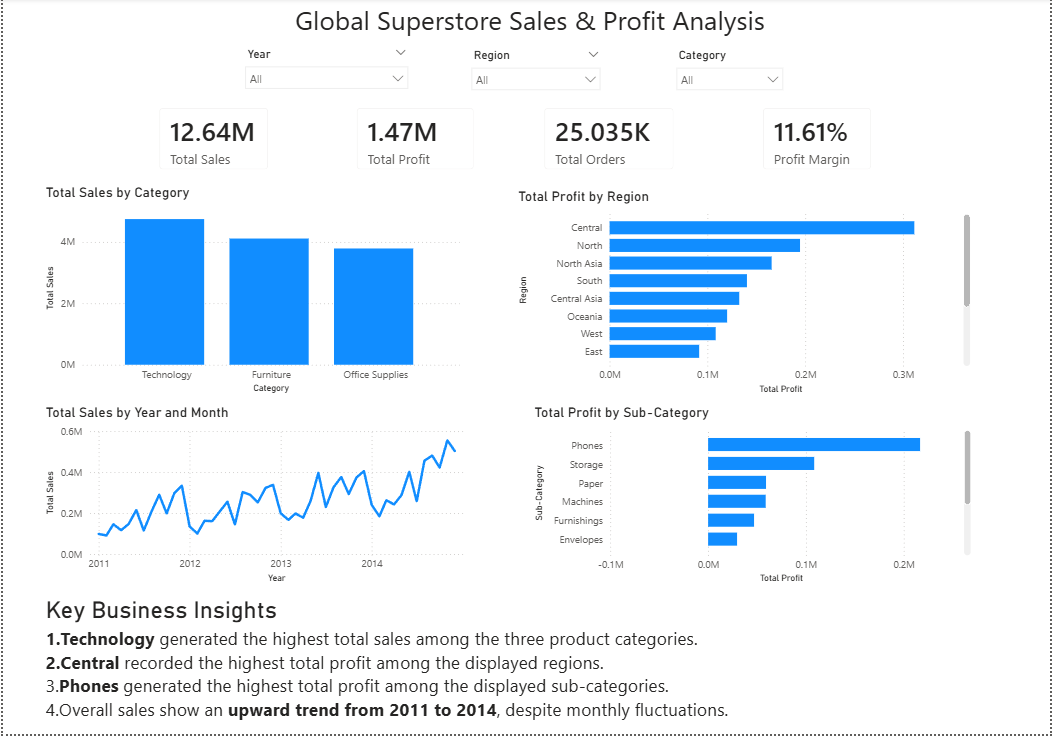

What the dashboard file says about the page in this screenshot:
{"tool":"powerbi","page":{"name":"Page 1","canvas":[1280,900],"ordinal":0},"visuals":[{"type":"textbox","box":[9.6,0,1270.7,56.3],"z":0},{"type":"cardVisual","fields":{"Data":["Global_Superstore2.Total Sales"]},"box":[174.3,118,167.4,109.8],"z":1000},{"type":"cardVisual","fields":{"Data":["Global_Superstore2.Total Profit"]},"box":[415.8,118,177,109.8],"z":2000},{"type":"cardVisual","fields":{"Data":["Global_Superstore2.Total Orders"]},"box":[644.9,118,192.1,109.8],"z":3000},{"type":"cardVisual","fields":{"Data":["Global_Superstore2.Profit Margin"]},"box":[912.5,118,166,109.8],"z":4000},{"type":"clusteredColumnChart","fields":{"Category":["Global_Superstore2.Category"],"Y":["Global_Superstore2.Total Sales"]},"box":[46.7,227.8,516,260.7],"z":5000},{"type":"barChart","fields":{"Y":["Global_Superstore2.Total Profit"],"Category":["Global_Superstore2.Region"]},"box":[625.7,231.9,562.6,256.6],"z":6000},{"type":"lineChart","fields":{"Y":["Global_Superstore2.Total Sales"],"Category":["Global_Superstore2.Order Date.Variation.Date Hierarchy.Year","Global_Superstore2.Order Date.Variation.Date Hierarchy.Month"]},"box":[46.7,496.7,523.3,223.3],"z":7000},{"type":"barChart","fields":{"Y":["Global_Superstore2.Total Profit"],"Category":["Global_Superstore2.Sub-Category"]},"box":[644.9,496.7,543.4,223.7],"z":8000},{"type":"slicer","fields":{"Values":["Global_Superstore2.Order Date.Variation.Date Hierarchy.Year"]},"box":[285.4,54.9,219.6,63.1],"z":10000},{"type":"slicer","fields":{"Values":["Global_Superstore2.Region"]},"box":[562.6,56.3,178.4,61.7],"z":11000},{"type":"slicer","fields":{"Values":["Global_Superstore2.Category"]},"box":[813.7,56.3,150.9,61.7],"z":12000},{"type":"textbox","title":"Key Business Insights","box":[47.4,730.6,1232,169.7],"z":12001}]}

Visuals, with their boxes in screenshot pixels (x1, y1, x2, y2), scaled from the page's 1280x900 canvas onto the 1052x736 screenshot:
textbox: box=[8, 0, 1051, 46]
cardVisual - Global_Superstore2.Total Sales: box=[143, 96, 281, 186]
cardVisual - Global_Superstore2.Total Profit: box=[342, 96, 487, 186]
cardVisual - Global_Superstore2.Total Orders: box=[530, 96, 688, 186]
cardVisual - Global_Superstore2.Profit Margin: box=[750, 96, 886, 186]
clusteredColumnChart - Global_Superstore2.Category x Global_Superstore2.Total Sales: box=[38, 186, 462, 399]
barChart - Global_Superstore2.Total Profit x Global_Superstore2.Region: box=[514, 190, 977, 399]
lineChart - Global_Superstore2.Total Sales x Global_Superstore2.Order Date.Variation.Date Hierarchy.Year: box=[38, 406, 468, 589]
barChart - Global_Superstore2.Total Profit x Global_Superstore2.Sub-Category: box=[530, 406, 977, 589]
slicer - Global_Superstore2.Order Date.Variation.Date Hierarchy.Year: box=[235, 45, 415, 96]
slicer - Global_Superstore2.Region: box=[462, 46, 609, 96]
slicer - Global_Superstore2.Category: box=[669, 46, 793, 96]
"Key Business Insights" textbox: box=[39, 597, 1051, 735]
